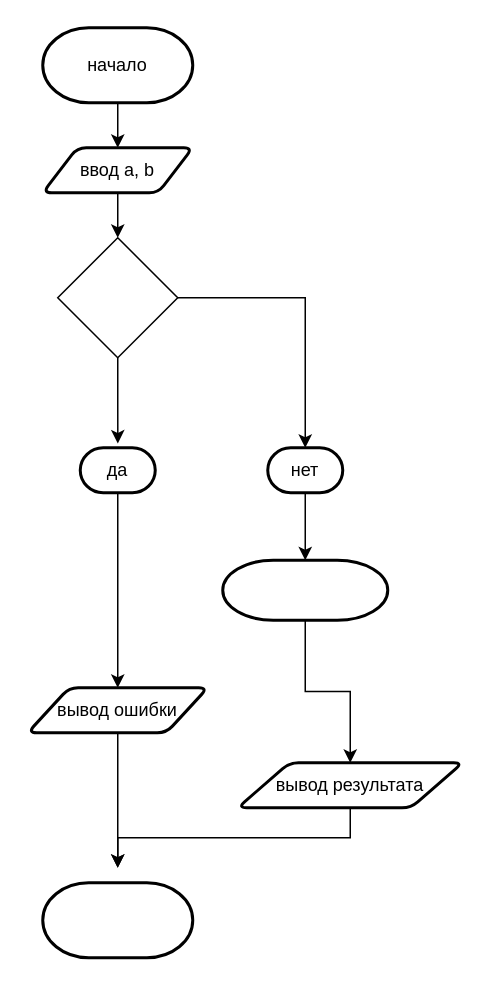
The diagram is 489 pixels wide and 984 high, and some of its shapes have lost their labels. The box of each missing label's shape, as (x1, y1, x2, y2) in pixels:
b = 0?: (56, 236, 178, 358)
конец: (40, 880, 194, 958)
результат = a / b: (220, 558, 388, 621)
